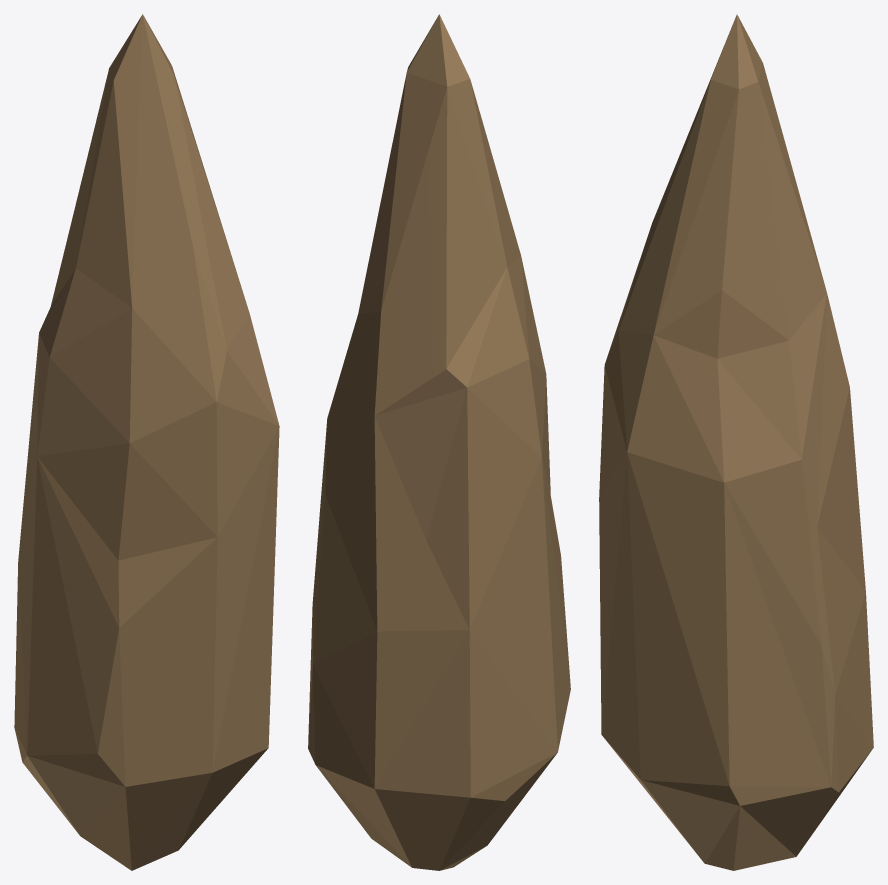
The model's file is SM_Env_Stalagmite_02.gltf.
3 views of the same model, side by side, from view 1: azimuth 30°, elevation 25°; view 2: azimuth 150°, elevation 25°; view 3: azimuth 270°, elevation 25° (orthographic).
Parts seen in each view (by area): view 1: SM_Env_Stalagmite_02; view 2: SM_Env_Stalagmite_02; view 3: SM_Env_Stalagmite_02.
Boxes of the visible parts, left/top/right/bottom form: SM_Env_Stalagmite_02: left=14, top=14, right=279, bottom=870; SM_Env_Stalagmite_02: left=308, top=14, right=570, bottom=870; SM_Env_Stalagmite_02: left=599, top=14, right=873, bottom=870.
Bounding box in the file's own units: 0.23 × 0.8003 × 0.2308.
Materials: 1 (1 with a texture image).
